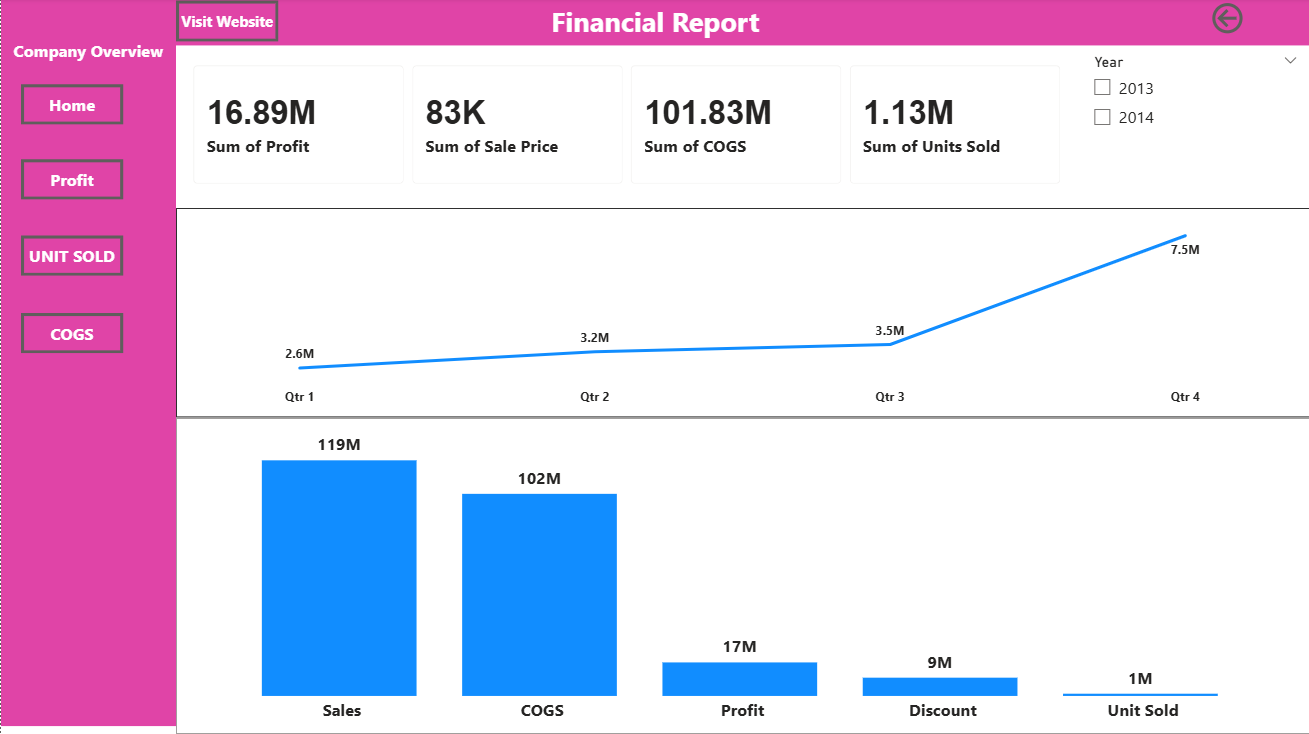

This screenshot's page, from the dashboard's own definition file:
{"tool":"powerbi","page":{"name":"Home","canvas":[1280,720],"ordinal":0},"visuals":[{"type":"textbox","box":[0,0,1280.2,46.5],"z":0},{"type":"textbox","box":[0,34.9,170.9,676.7],"z":1000},{"type":"actionButton","box":[19.8,84.9,100,39.5],"z":2000},{"type":"actionButton","box":[19.8,158.1,100,39.5],"z":3000},{"type":"actionButton","box":[19.8,232.6,100,39.5],"z":4000},{"type":"actionButton","box":[19.8,308.1,100,39.5],"z":5000},{"type":"clusteredColumnChart","fields":{"Category":["Header.Header"],"Y":["Sum(Header.Values)"]},"box":[170.9,410.5,1109.3,309.3],"z":6000},{"type":"lineChart","fields":{"Category":["financials.Date.Variation.Date Hierarchy.Quarter"],"Y":["Sum(financials.Profit)"]},"box":[170.9,205.8,1109.3,204.7],"z":7000},{"type":"cardVisual","fields":{"Data":["Sum(financials.Profit)","Sum(financials.Sale Price)","Sum(financials.COGS)","Sum(financials.Units Sold)"]},"box":[170.9,48.8,884.9,150],"z":8000},{"type":"slicer","fields":{"Values":["financials.Date.Variation.Date Hierarchy.Year"]},"box":[1056,49,224,150],"z":9000},{"type":"actionButton","box":[1180,0,100,39.5],"z":10000},{"type":"actionButton","box":[171.2,2.4,100.3,40.4],"z":10001}]}

Visuals, with their boxes in screenshot pixels (x1, y1, x2, y2), scaled from the page's 1280x720 canvas onto the 1309x734 screenshot:
textbox: box=[0, 0, 1308, 47]
textbox: box=[0, 36, 175, 725]
actionButton: box=[20, 87, 123, 127]
actionButton: box=[20, 161, 123, 201]
actionButton: box=[20, 237, 123, 277]
actionButton: box=[20, 314, 123, 354]
clusteredColumnChart - Header.Header x Sum(Header.Values): box=[175, 418, 1308, 733]
lineChart - financials.Date.Variation.Date Hierarchy.Quarter x Sum(financials.Profit): box=[175, 210, 1308, 418]
cardVisual - Sum(financials.Profit) x Sum(financials.Sale Price): box=[175, 50, 1080, 203]
slicer - financials.Date.Variation.Date Hierarchy.Year: box=[1080, 50, 1308, 203]
actionButton: box=[1207, 0, 1308, 40]
actionButton: box=[175, 2, 278, 44]
